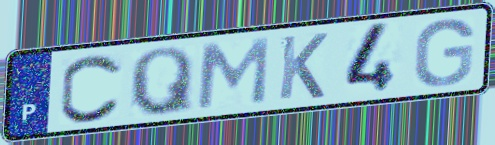4: (341, 20, 404, 99)
C: (57, 52, 126, 125)
G: (410, 16, 477, 89)
K: (275, 30, 331, 102)
M: (193, 35, 273, 112)
Q: (127, 45, 196, 118)
